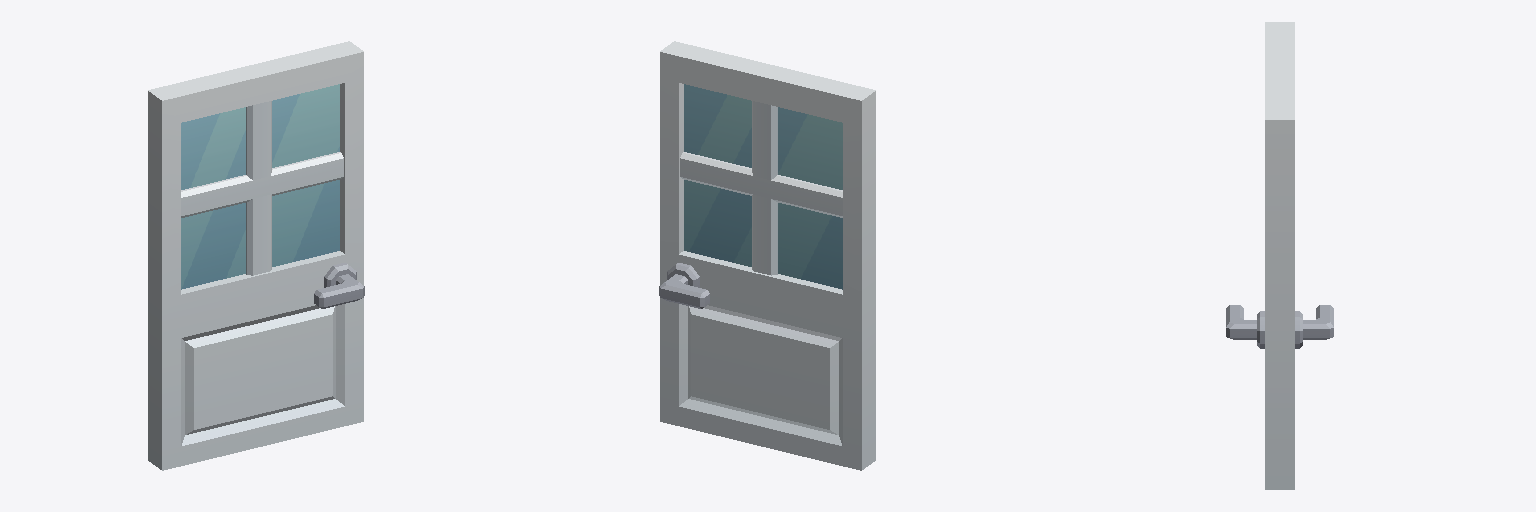
3 renders of one model, left to right at view 1: azimuth 30°, elevation 25°; view 2: azimuth 150°, elevation 25°; view 3: azimuth 270°, elevation 25°, orthographic.
Visible parts, largest first — view 1: wall_tiles_kitchen_door; view 2: wall_tiles_kitchen_door; view 3: wall_tiles_kitchen_door.
Boxes of the visible parts, box(x1,y1,x2,y2) form: wall_tiles_kitchen_door: box(148, 41, 364, 470); wall_tiles_kitchen_door: box(659, 41, 875, 470); wall_tiles_kitchen_door: box(1226, 22, 1333, 489).
Size of the model in its own units: 1.6 by 2.8 by 0.74.
2 materials, 1 textured.